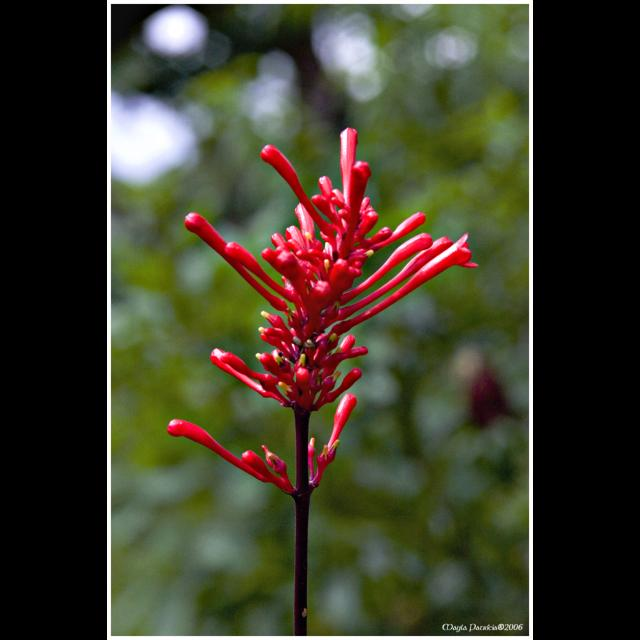Flower: (192, 101, 466, 559)
